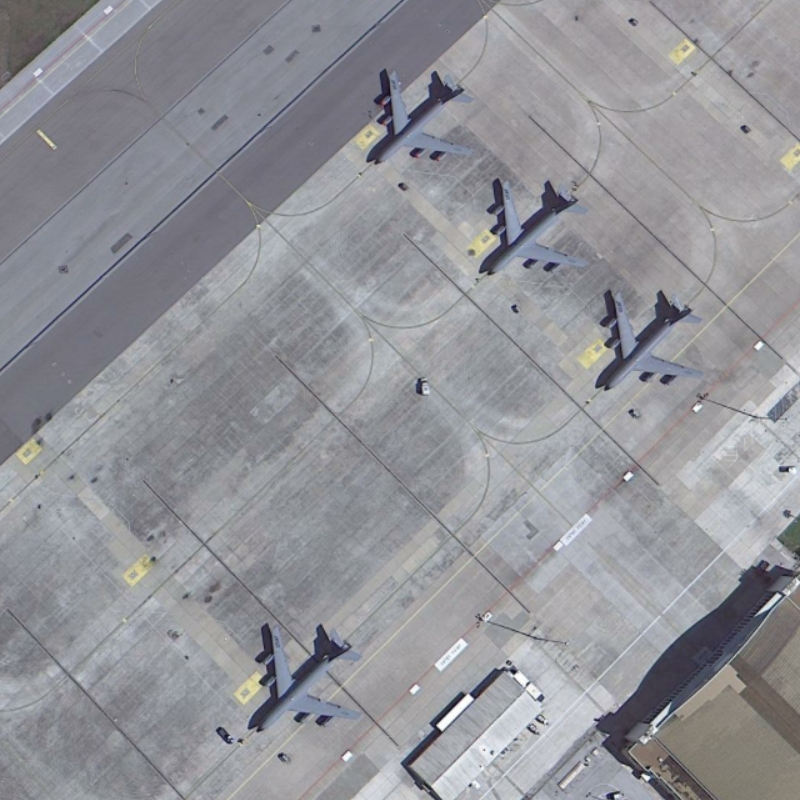A14: (251, 620, 364, 738), (597, 286, 708, 395), (369, 65, 478, 171), (483, 175, 593, 279)
